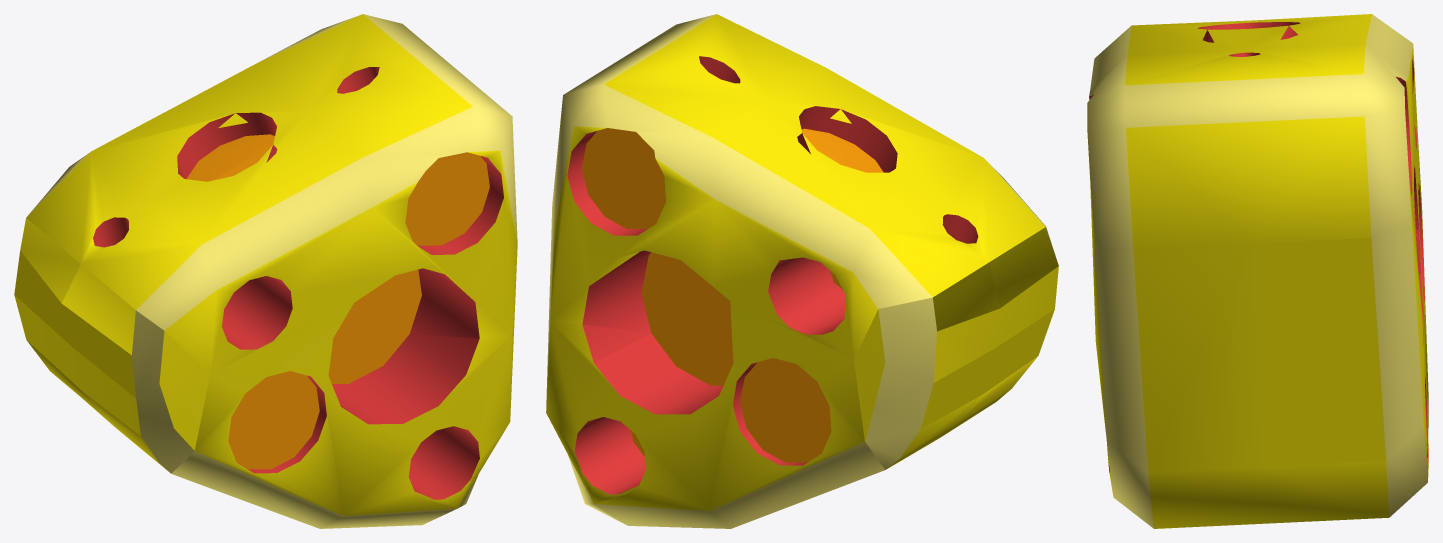
Rendered from CIS2.fbx.
3 views of the same model, side by side, from view 1: azimuth 30°, elevation 25°; view 2: azimuth 150°, elevation 25°; view 3: azimuth 270°, elevation 25° (orthographic). The views are drawn at different scales.
Parts seen in each view (by area): view 1: Box001; view 2: Box001; view 3: Box001.
Part boxes in pixels (x1,y1,x2,y2): Box001: (14, 14, 517, 528); Box001: (546, 14, 1058, 528); Box001: (1087, 14, 1428, 528).
Size of the model in its own units: 742 by 773 by 517.
